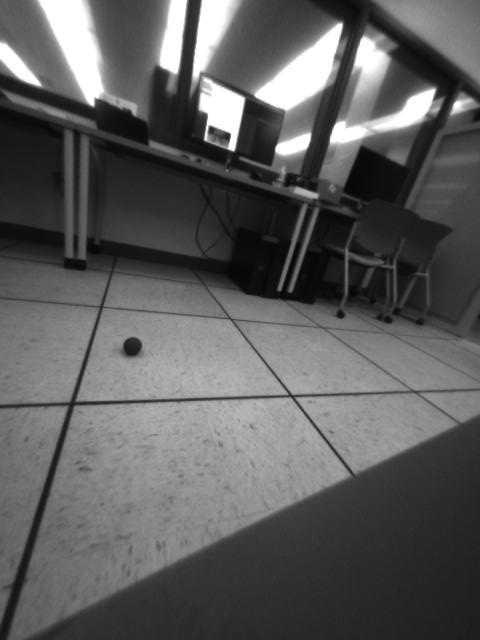dogtoy: (119, 329, 148, 359)
